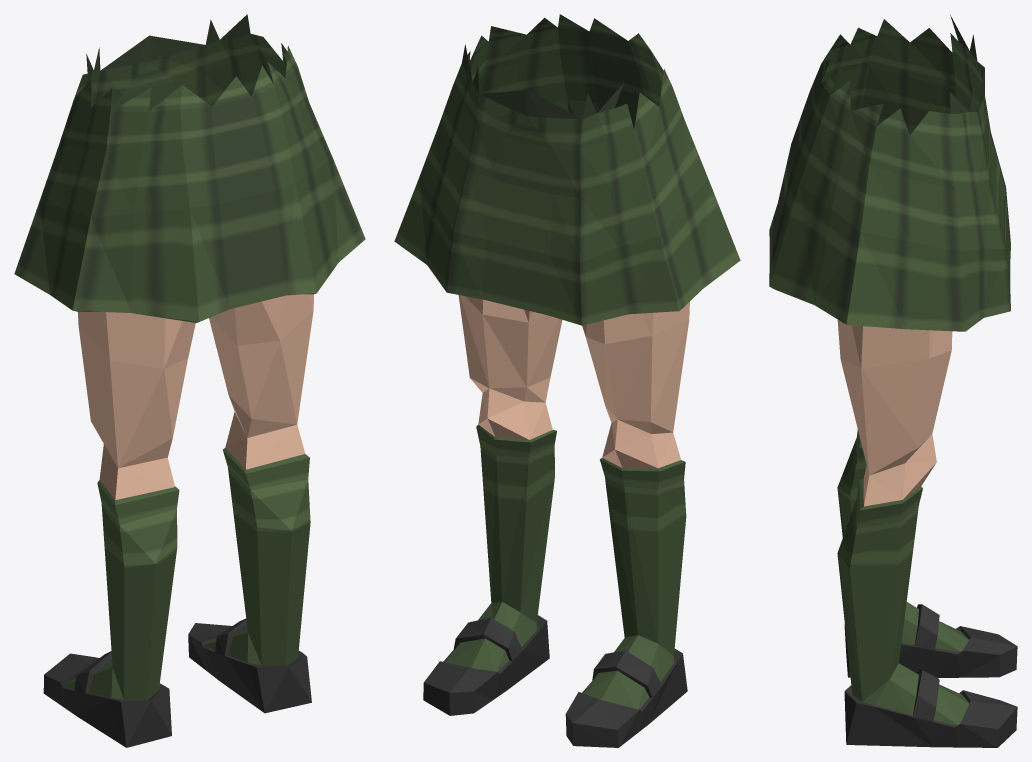
File: Legs.obj
3 views of the same model, side by side, from view 1: azimuth 30°, elevation 25°; view 2: azimuth 150°, elevation 25°; view 3: azimuth 270°, elevation 25° (orthographic).
Bounding box in the file's own units: 0.4889 × 1.04 × 0.3621.
1 material, 1 textured.
